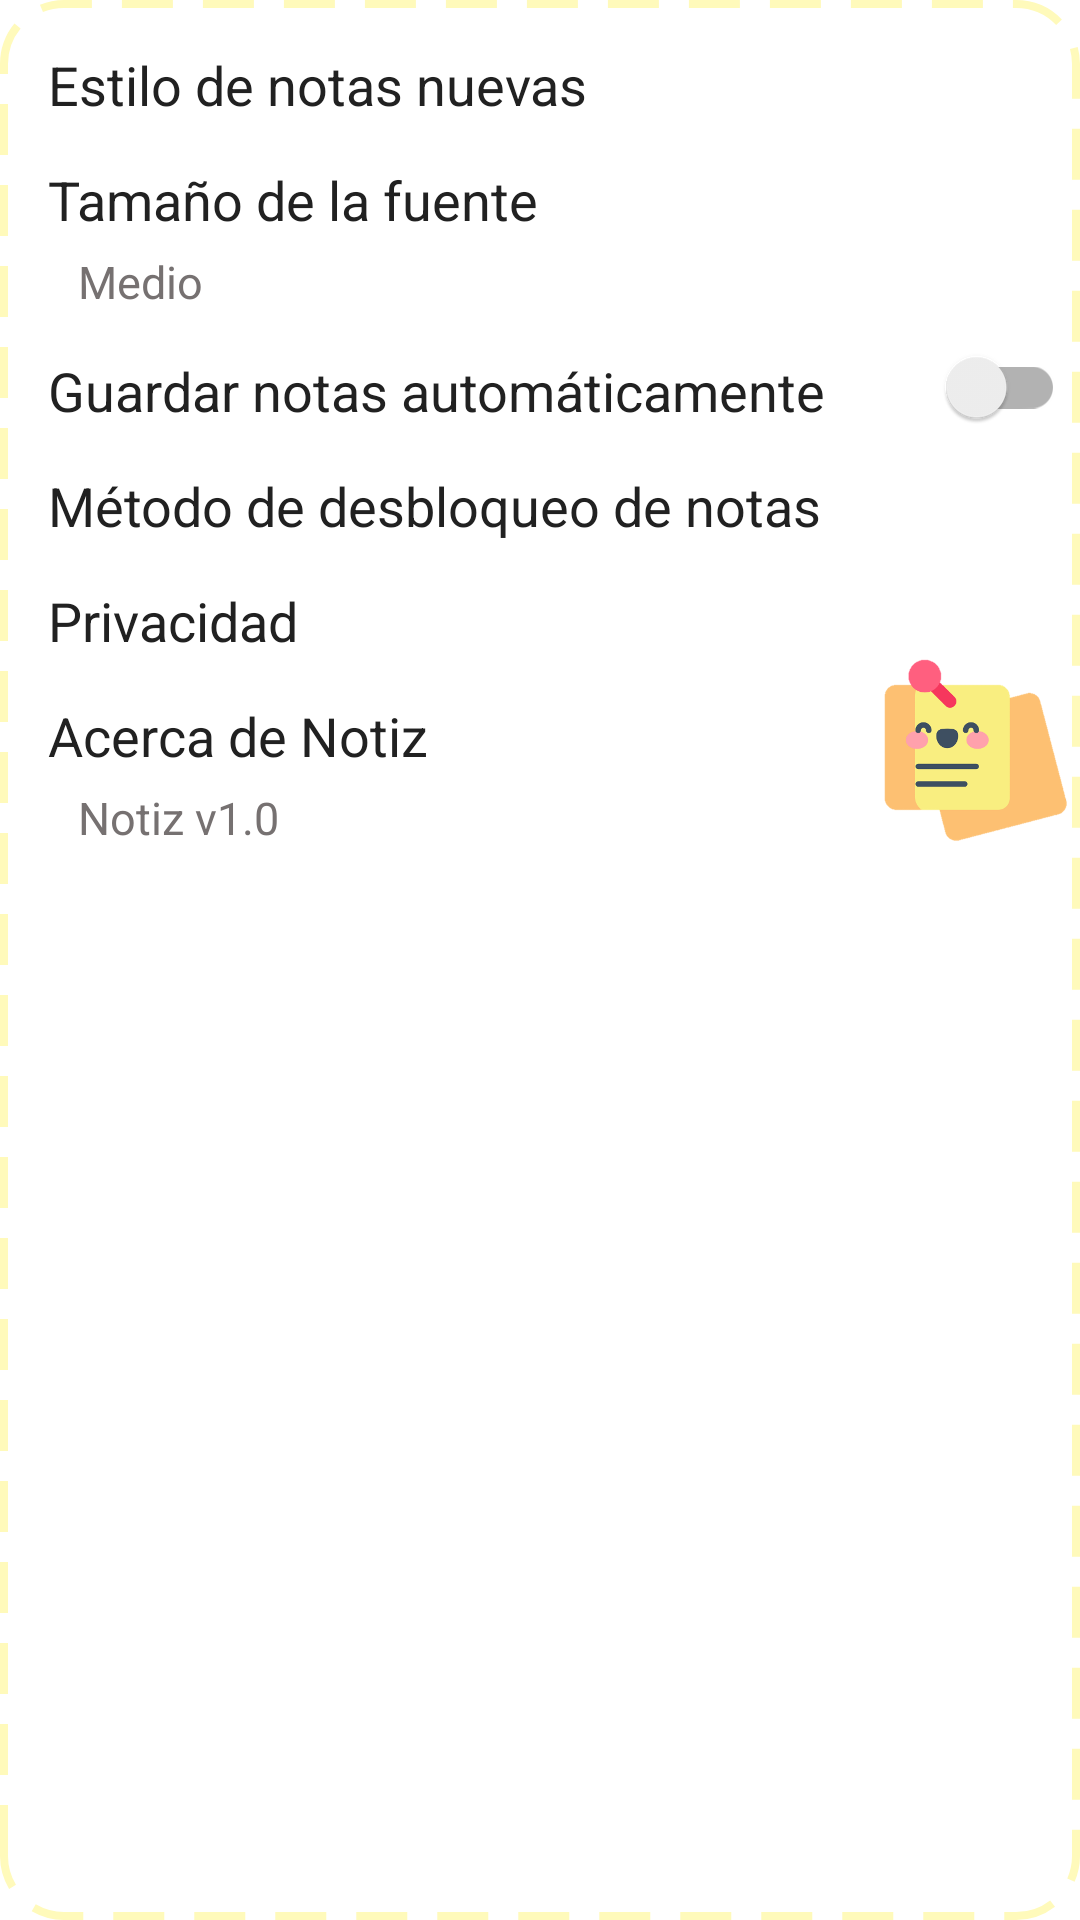

Icons on this 1080w x 1920h Android screen, each with its box as (x1, y1, x2, y2):
Icono notas: (884, 660, 1067, 841)
